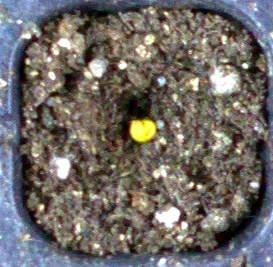chilli seed: (129, 119, 156, 142)
